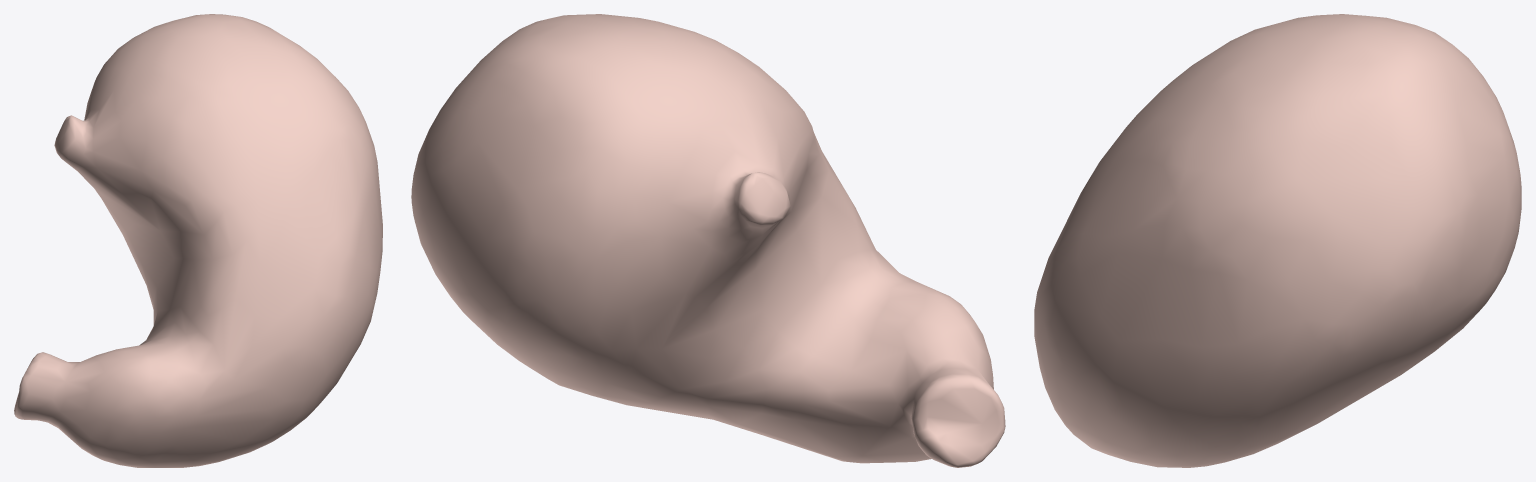
The model's file is stomach.glb.
The picture shows the model from 3 angles, left to right: view 1: azimuth 30°, elevation 25°; view 2: azimuth 150°, elevation 25°; view 3: azimuth 270°, elevation 25°; orthographic projection. The views are drawn at different scales.
Visible parts, largest first — view 1: stomach; view 2: stomach; view 3: stomach.
Part boxes in pixels (x1,y1,x2,y2): stomach: (14, 14, 382, 467); stomach: (411, 14, 1005, 467); stomach: (1034, 14, 1521, 467).
Size of the model in its own units: 0.0782 by 0.068 by 0.0657.
